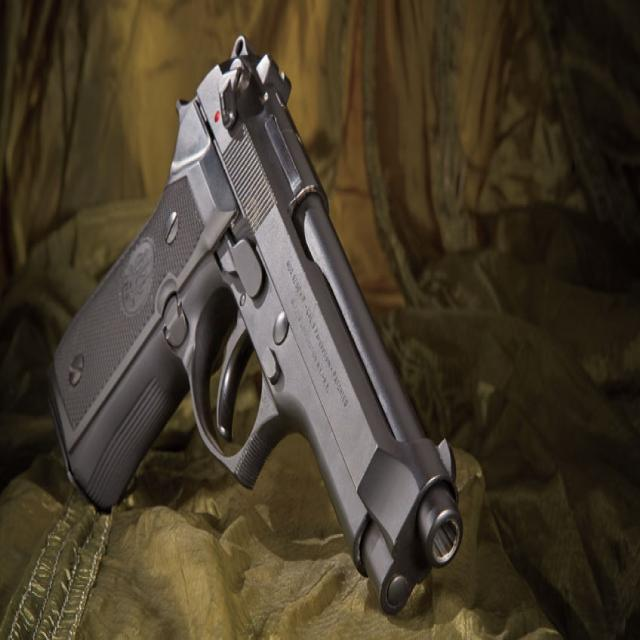Gun: (32, 23, 472, 628)
